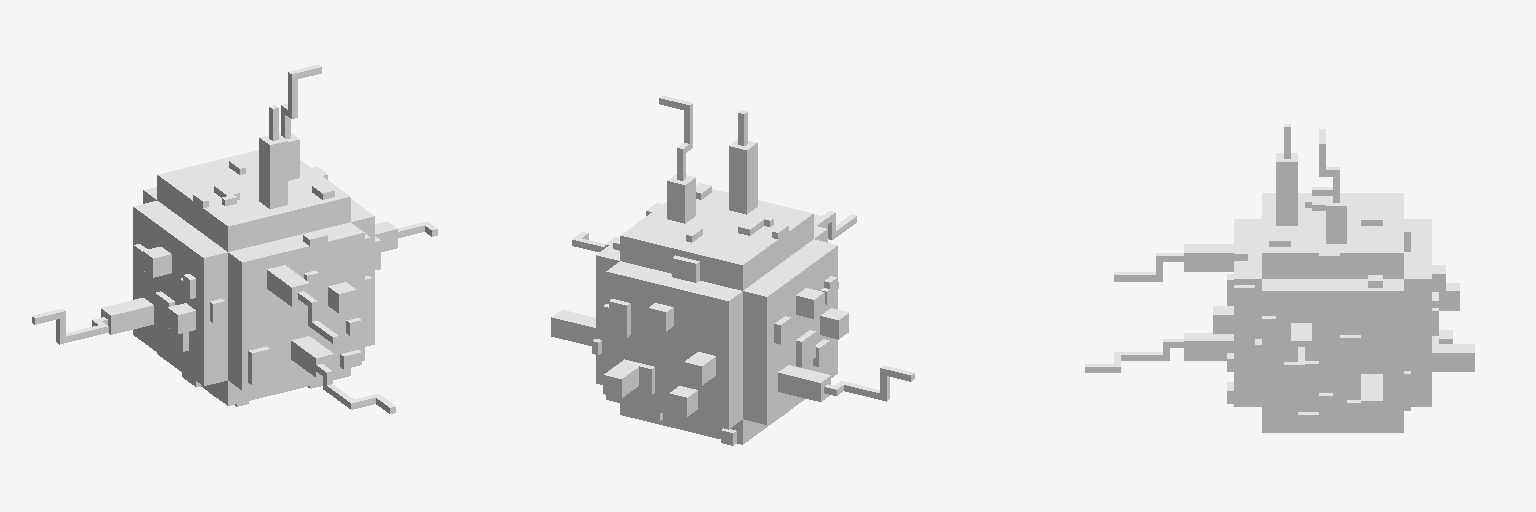
The model's file is Hospital-38.obj.
3 renders of one model, left to right at view 1: azimuth 30°, elevation 25°; view 2: azimuth 150°, elevation 25°; view 3: azimuth 270°, elevation 25°, orthographic.
Visible parts, largest first — view 1: object 1; view 2: object 1; view 3: object 1.
Boxes of the visible parts, box(x1,y1,x2,y2) form: object 1: box(32, 64, 437, 413); object 1: box(551, 96, 914, 445); object 1: box(1085, 124, 1474, 432).
Bounding box in the file's own units: 6 × 4.8 × 5.5.